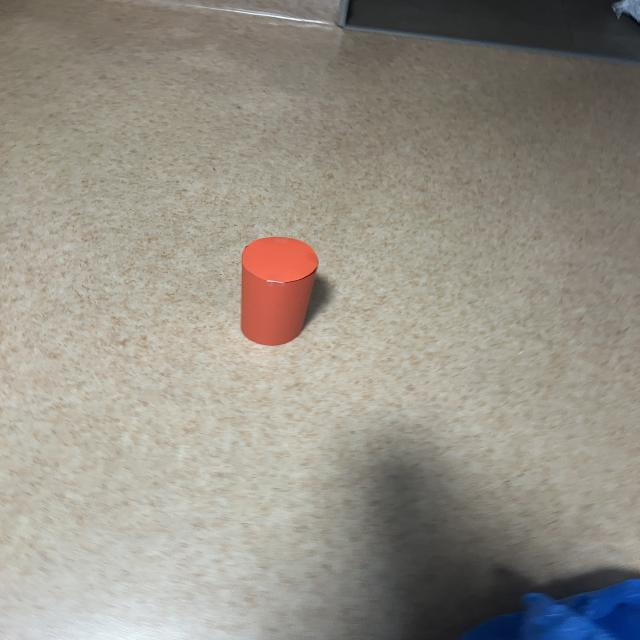przeszkoda: (241, 237, 318, 345)
